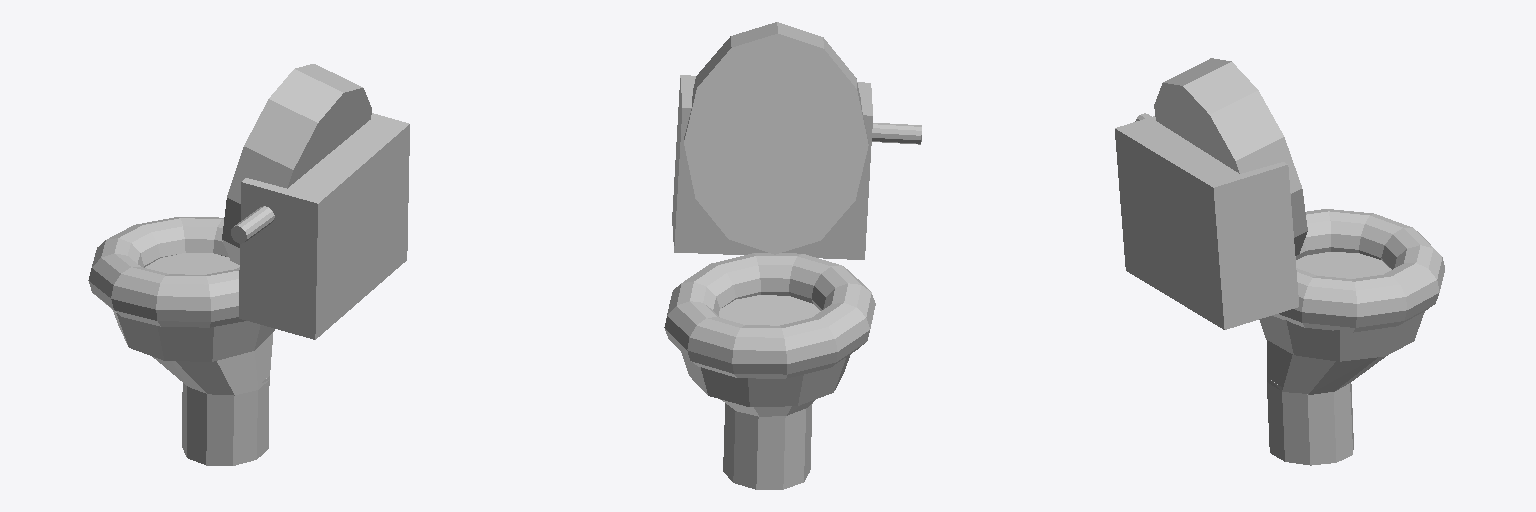
Rendered from Toilet.obj.
3 renders of one model, left to right at view 1: azimuth 30°, elevation 25°; view 2: azimuth 150°, elevation 25°; view 3: azimuth 270°, elevation 25°, orthographic.
Parts seen in each view (by area): view 1: group[number redacted]; view 2: group[number redacted]; view 3: group[number redacted].
Boxes of the visible parts, x1=… form: group[number redacted]: x1=88, y1=64, x2=409, y2=465; group[number redacted]: x1=664, y1=22, x2=921, y2=489; group[number redacted]: x1=1115, y1=58, x2=1444, y2=465.
Bounding box in the file's own units: 0.2929 × 0.4561 × 0.3394.